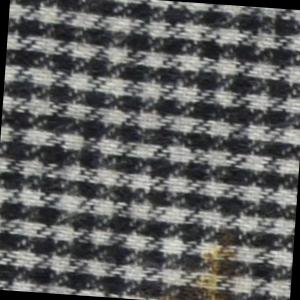Oil Stain: (155, 223, 247, 300)
